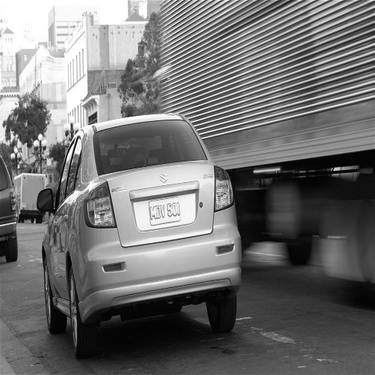car: (18, 118, 244, 362), (1, 148, 22, 263)
